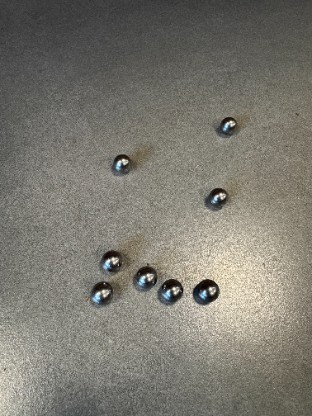ironball: (90, 281, 113, 305), (160, 279, 183, 303), (195, 279, 219, 302), (135, 266, 157, 289), (101, 250, 122, 272), (208, 187, 228, 207), (112, 154, 131, 172), (220, 116, 237, 134)
